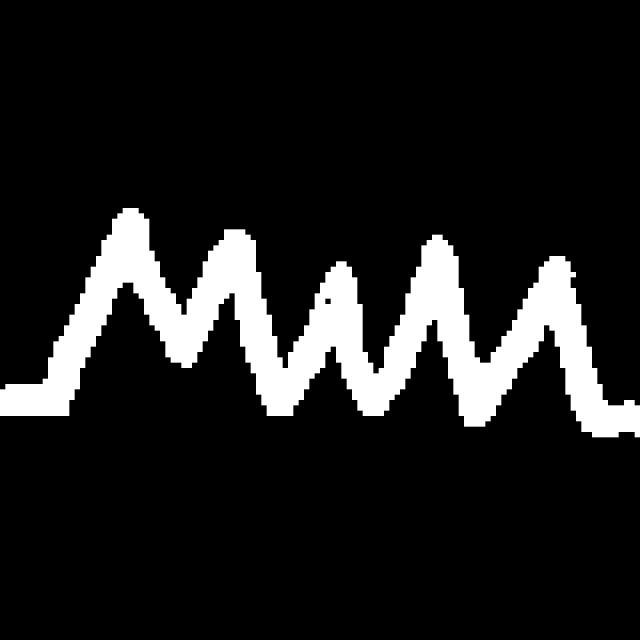resistor: (41, 165, 616, 469)
